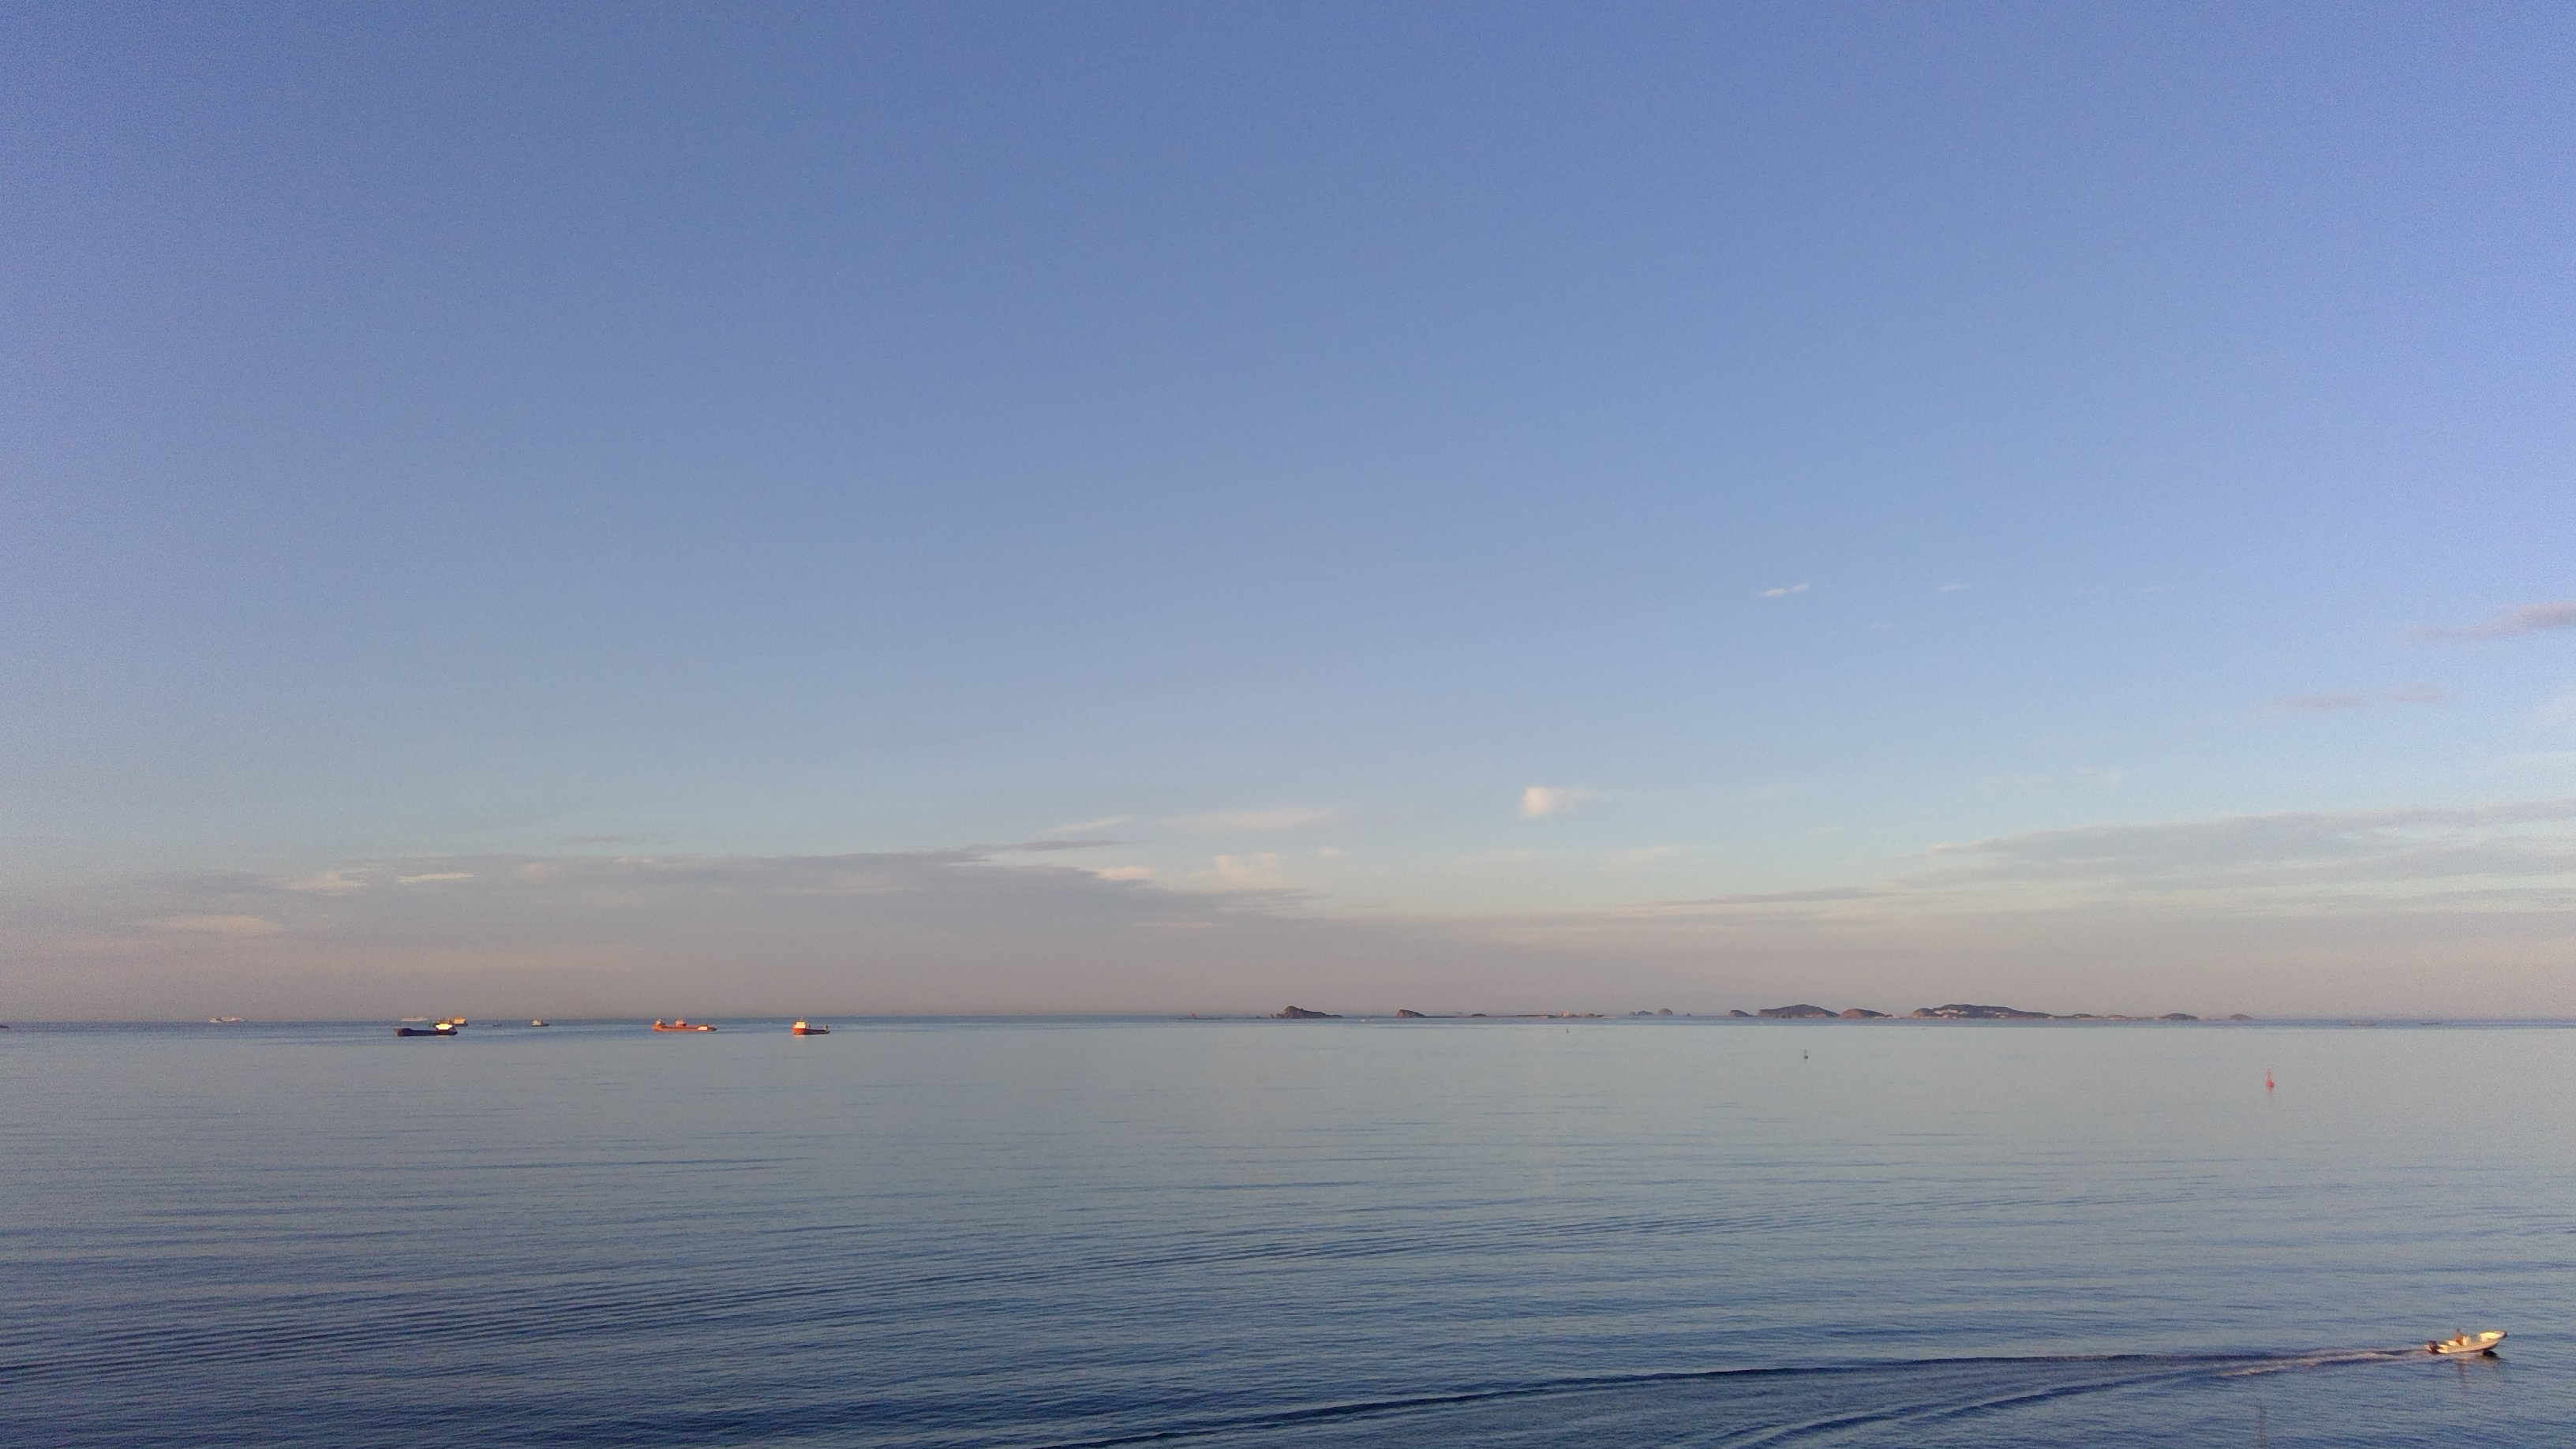boat: (2410, 1323, 2511, 1373)
rock: (1918, 993, 2266, 1028), (1729, 1000, 1895, 1023), (1274, 993, 1350, 1033)
ship: (642, 1010, 718, 1042), (777, 1010, 832, 1051), (395, 1017, 464, 1039)
